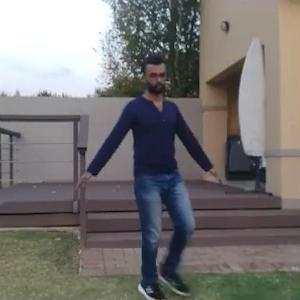land: (82, 73, 212, 286)
